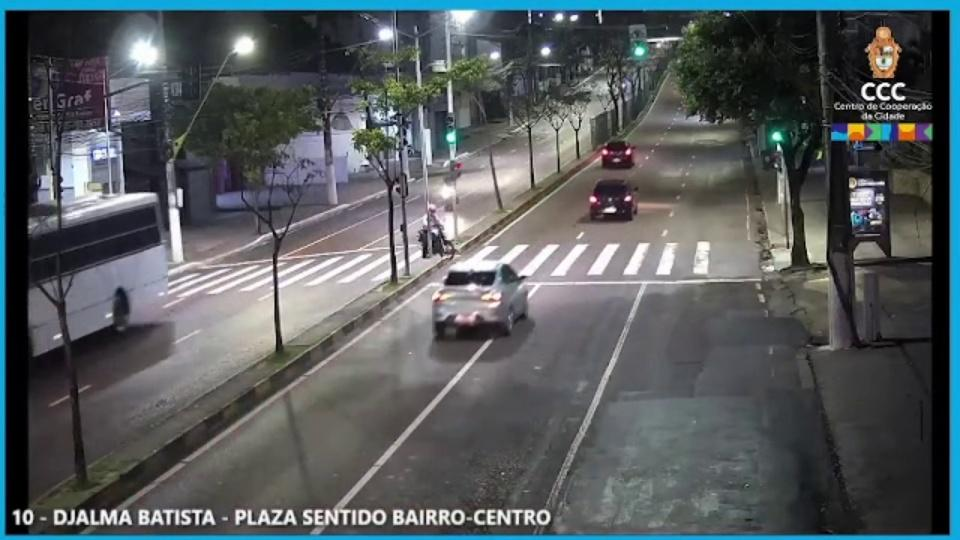biker: (419, 200, 458, 265)
car: (434, 262, 529, 339), (588, 176, 640, 224), (600, 136, 635, 170)
truck: (27, 191, 172, 371)
